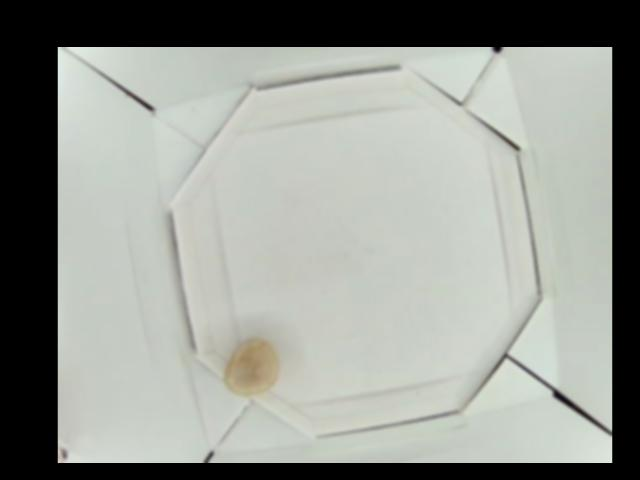Pebble: (224, 338, 281, 392)
